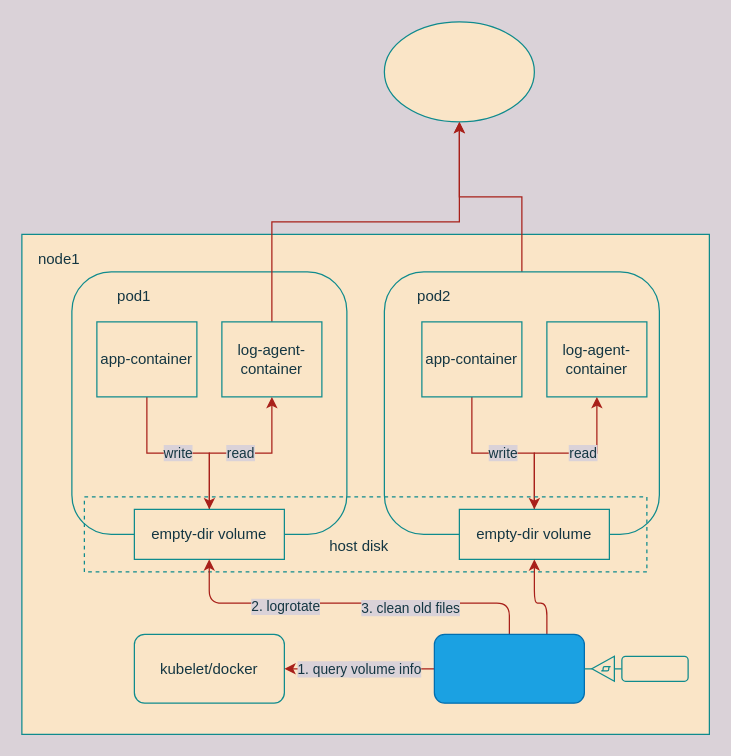
This 731x756 diagram has some shape labels left out. The shapes that lost their labels are listed below. From the top down, each one's centre as x and y in pixels, then its label:
At [458,71]: "digger or logbook".
At [508,668]: "log-cleaner".
At [654,668]: "timer".
